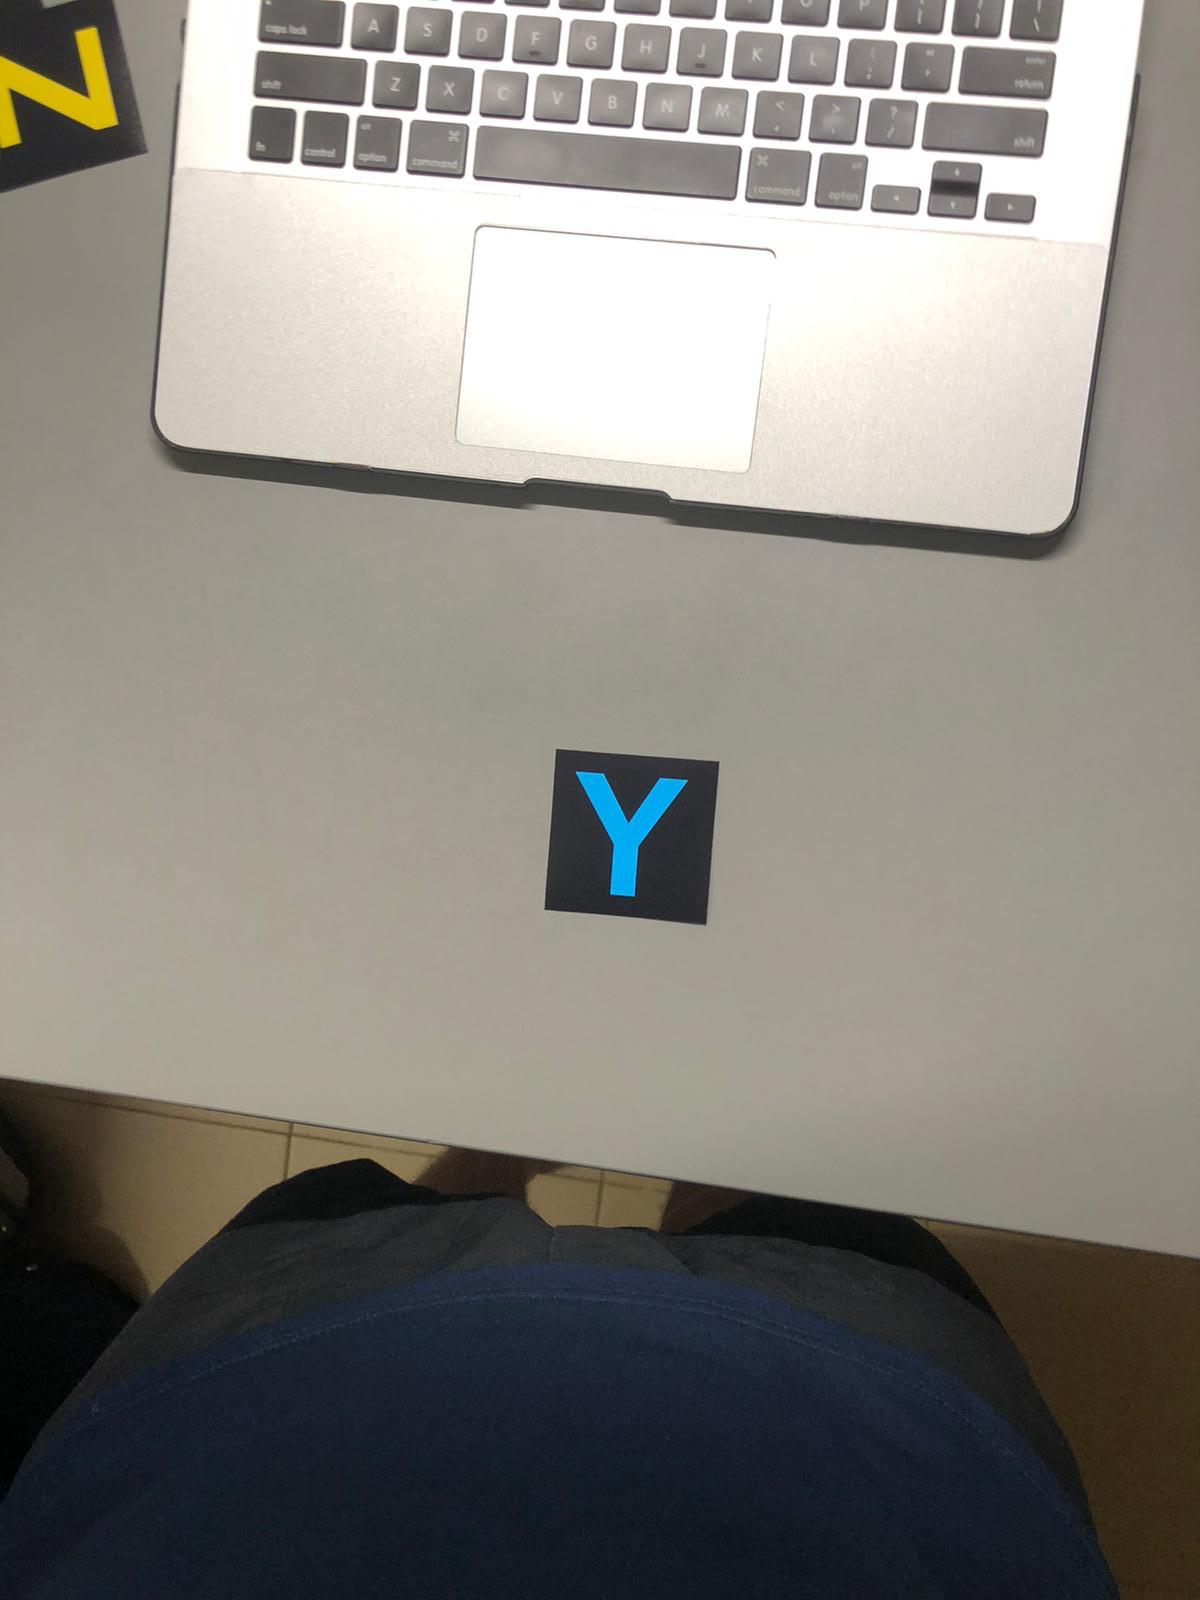Y: (556, 750, 711, 915)
